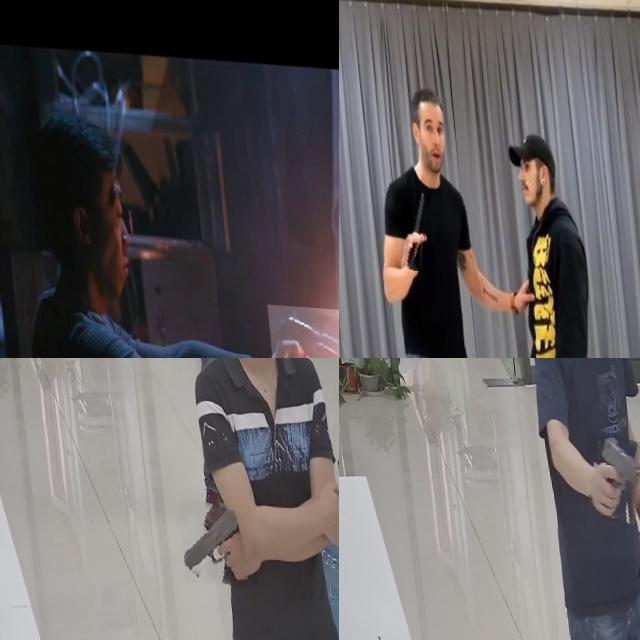-: (392, 180, 428, 268)
gun-knife-thesis - v11 Yolov5 augmented: (170, 496, 250, 582), (578, 426, 640, 517), (260, 297, 339, 358)
